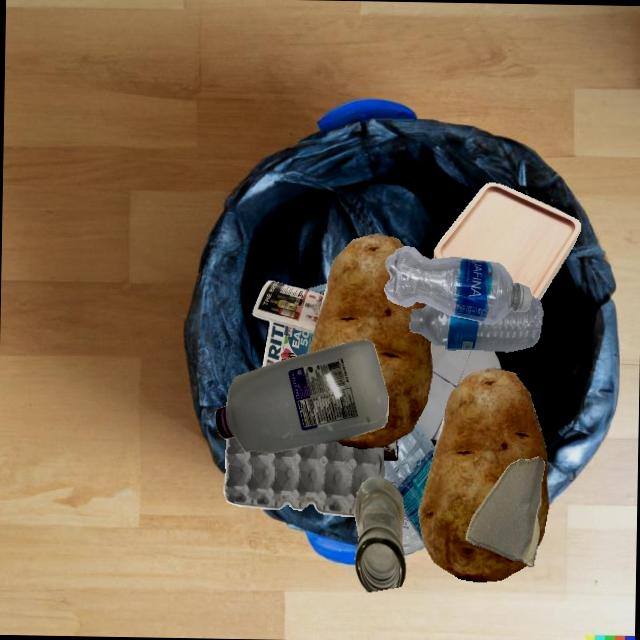biowaste: (418, 367, 548, 582), (308, 233, 432, 448)
cardboard: (223, 437, 383, 517), (465, 456, 545, 566), (383, 439, 398, 460)
combustible waste: (433, 182, 581, 300)
glass: (354, 476, 406, 591)
paper: (417, 341, 501, 441), (251, 280, 324, 367)
plastic: (214, 339, 388, 453), (384, 246, 531, 324), (409, 296, 543, 352), (383, 420, 435, 543), (402, 513, 425, 555), (306, 283, 327, 293)
